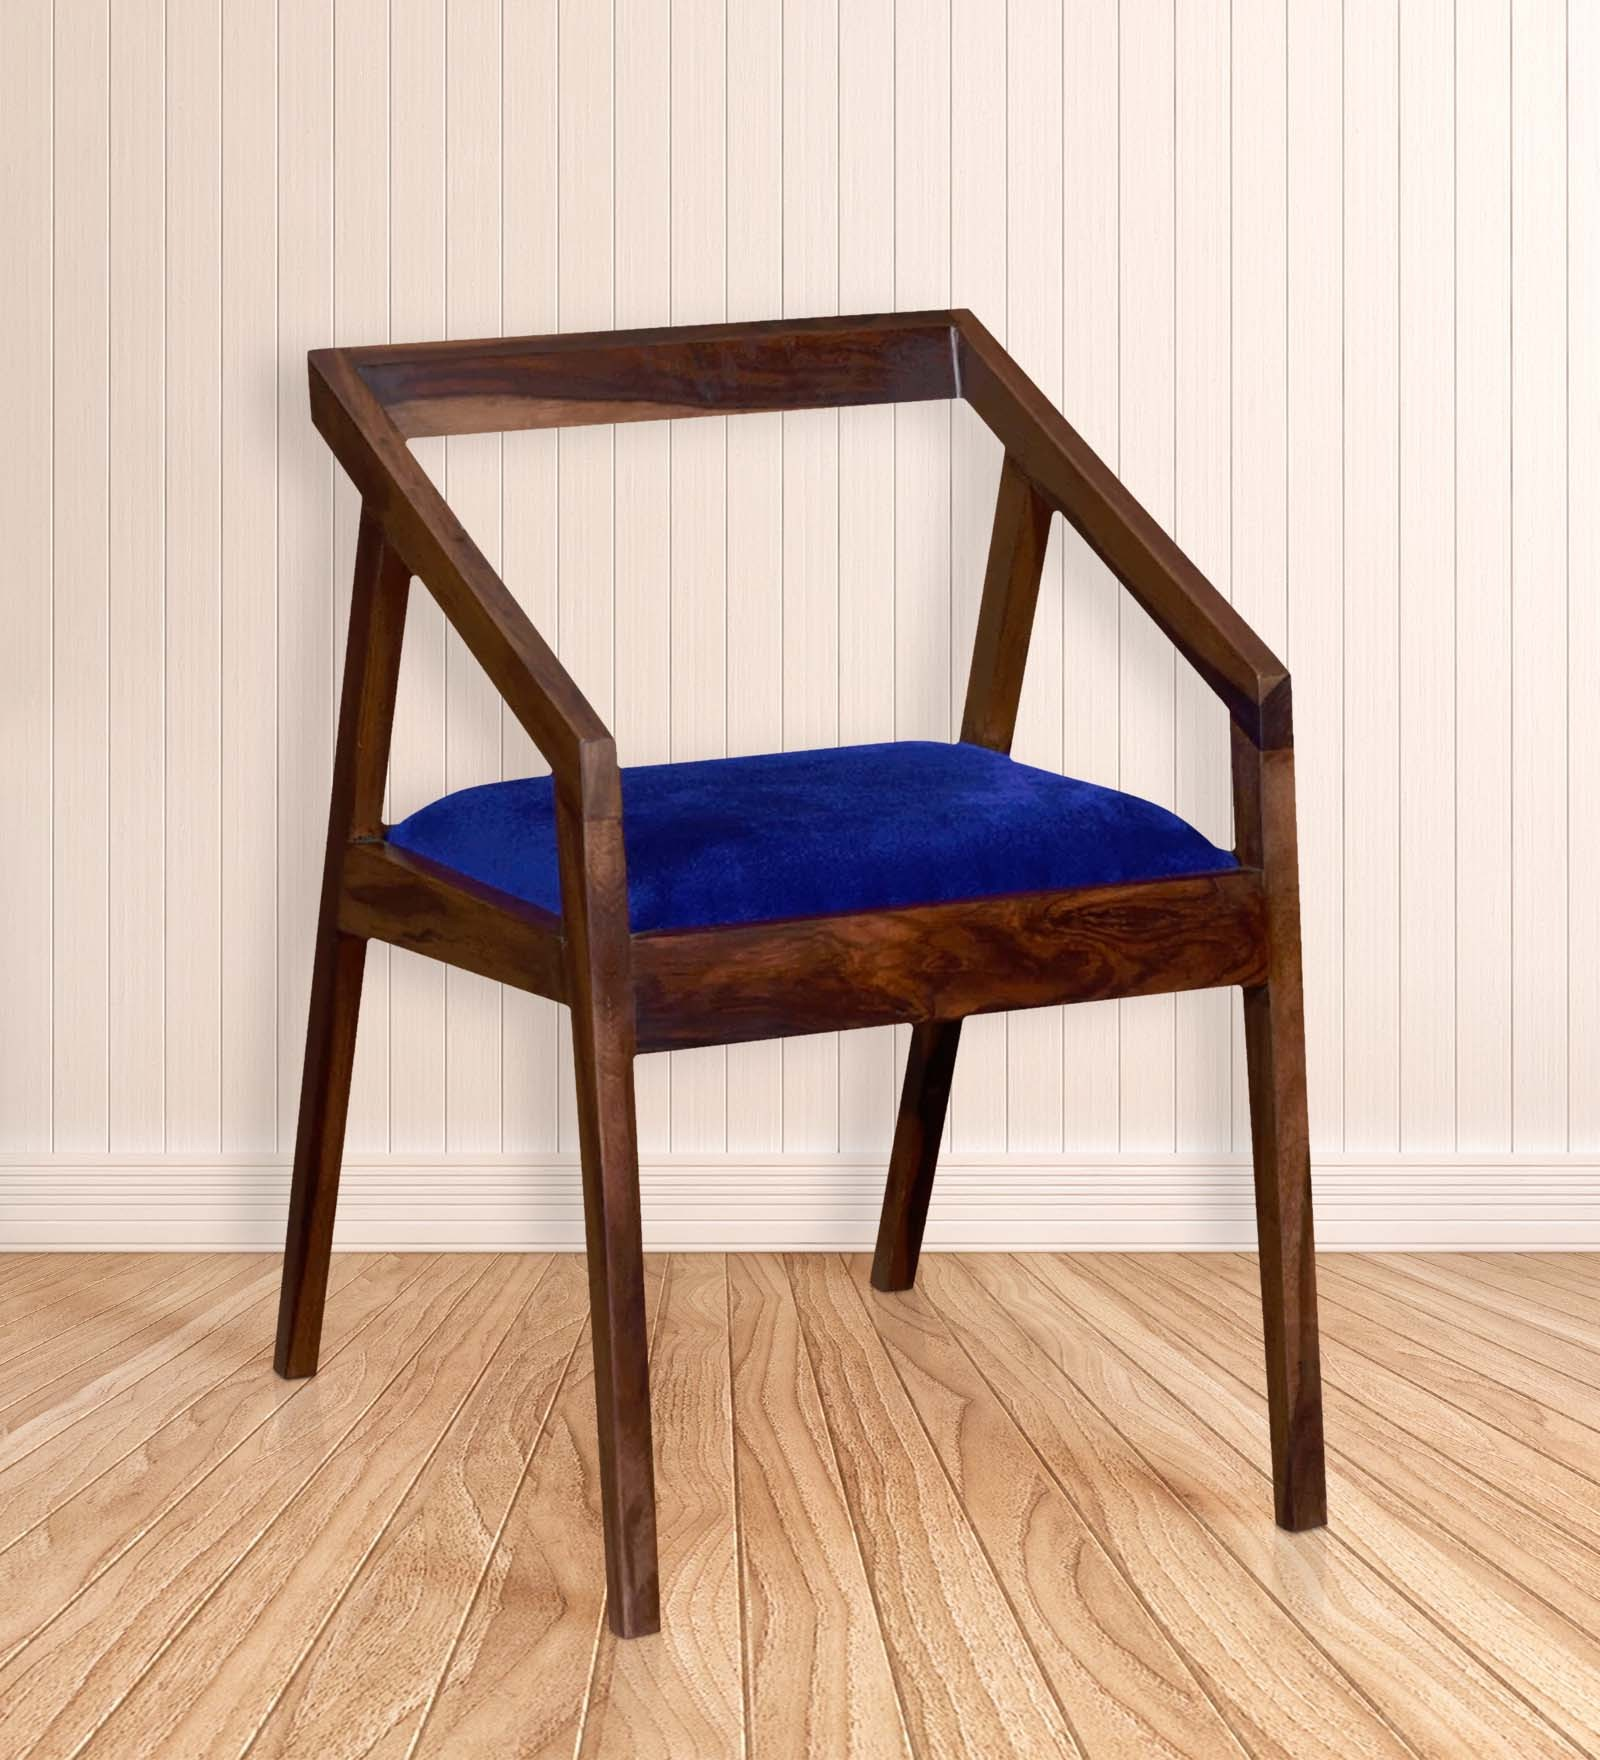Harrington Arm Chair in Provincial Teak Finish by Woodsworth: (267, 277, 1382, 1680)
